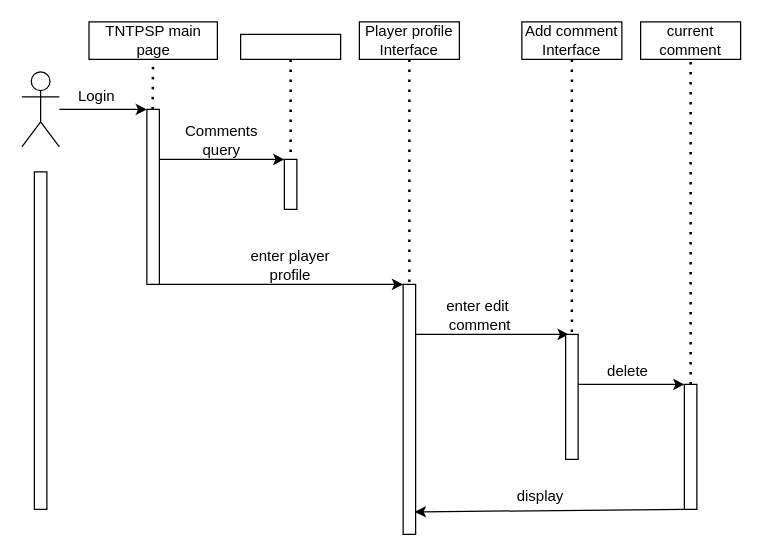
This 763x556 diagram has some shape labels left out. The box of each missing label's shape, as (x1, y1, x2, y2) in pixels:
Actor: (21, 71, 59, 147)
Comments list: (239, 33, 341, 59)
